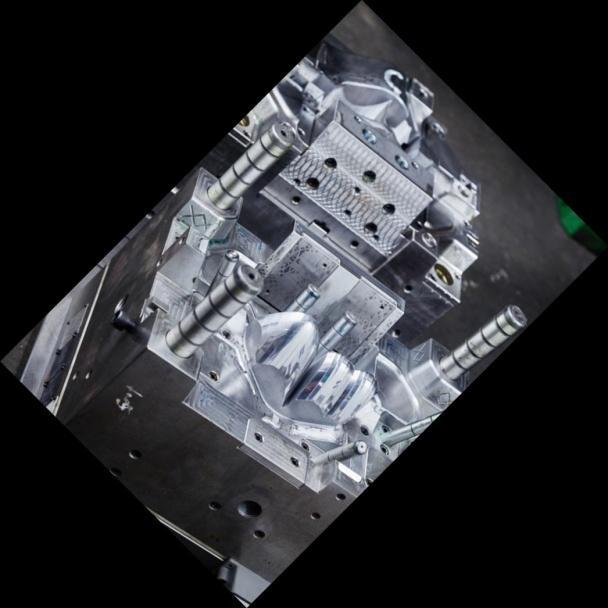hole: (231, 491, 267, 528)
